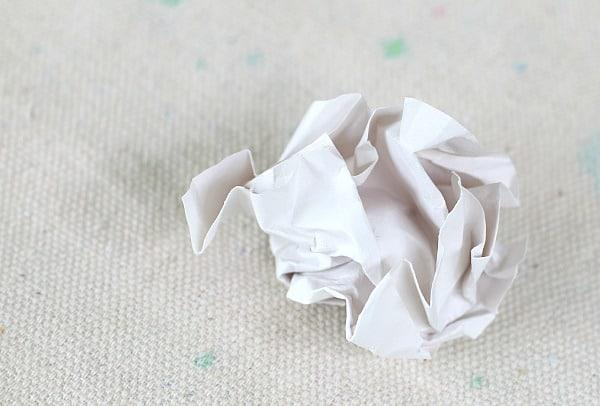paper: (182, 93, 523, 358)
